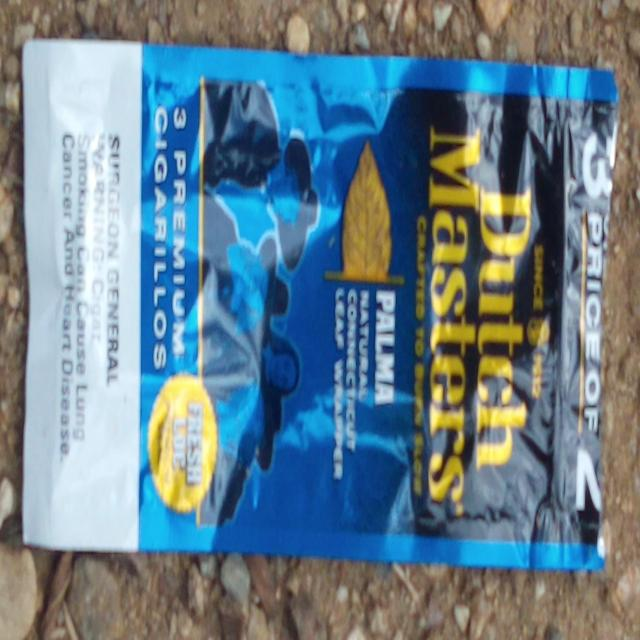litter: (24, 39, 617, 564)
